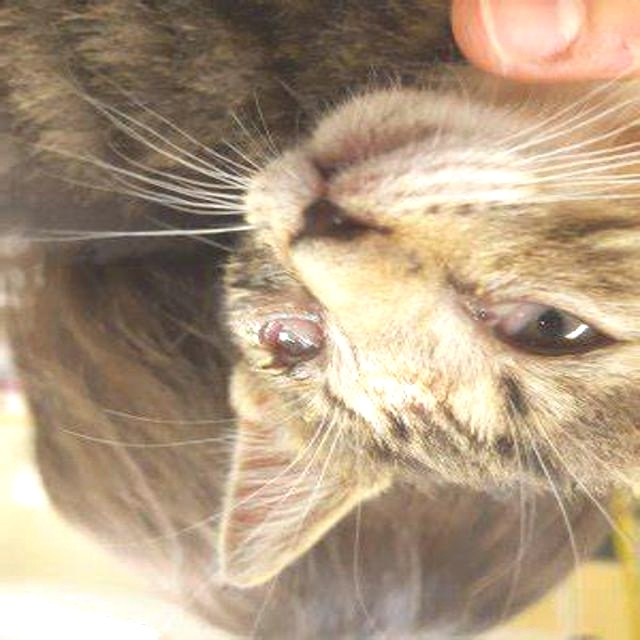eye_infection: (478, 294, 616, 359), (249, 304, 332, 371)
